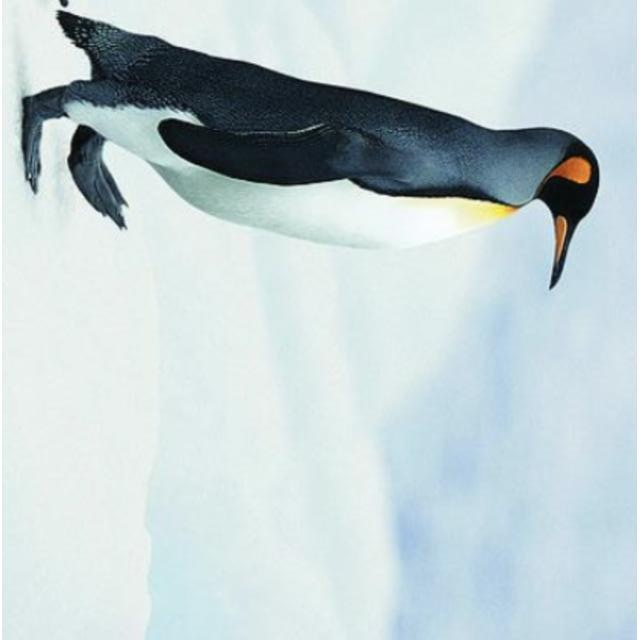penguin: (19, 12, 601, 291)
